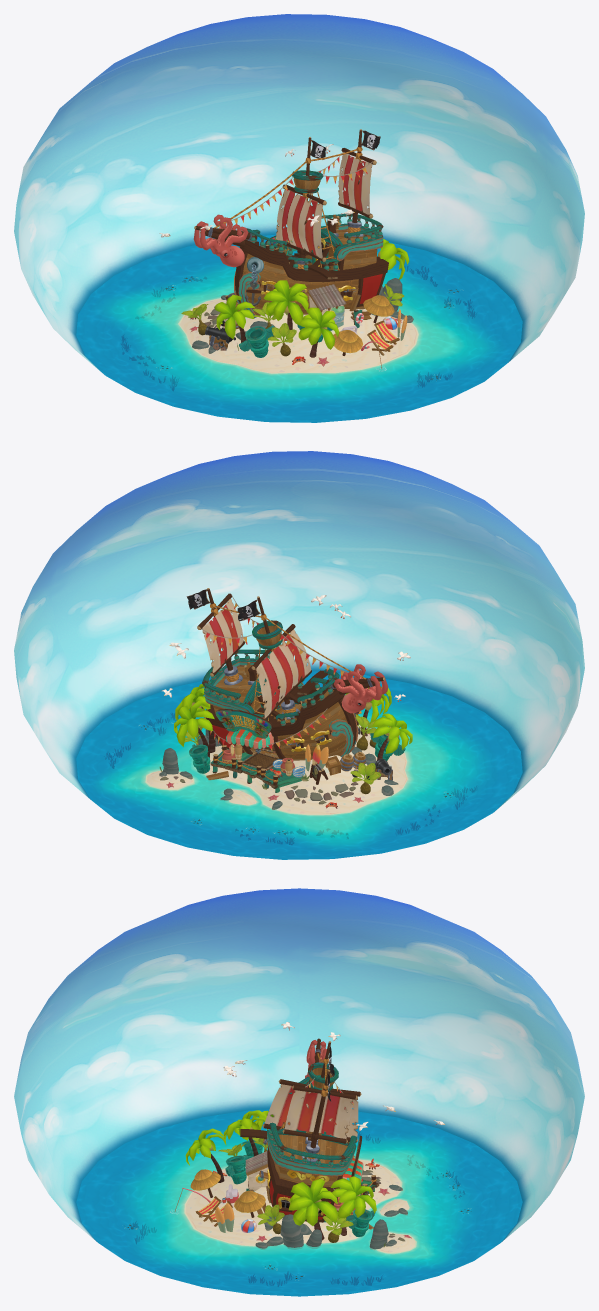
File: digimedical.gltf
The picture shows the model from 3 angles, top to bottom: view 1: azimuth 30°, elevation 25°; view 2: azimuth 150°, elevation 25°; view 3: azimuth 270°, elevation 25°; orthographic projection.
Parts seen in each view (by area): view 1: sky_sky_0, Ship; view 2: sky_sky_0, Ship; view 3: sky_sky_0, Ship.
Part boxes in pixels (x1,y1,x2,y2): sky_sky_0: [14, 14, 584, 374]; Ship: [76, 129, 522, 422]; sky_sky_0: [14, 451, 584, 811]; Ship: [76, 588, 522, 859]; sky_sky_0: [14, 888, 584, 1242]; Ship: [76, 1022, 522, 1296].
Size of the model in its own units: 3285 by 1809 by 3285.
17 materials, 17 textured.
